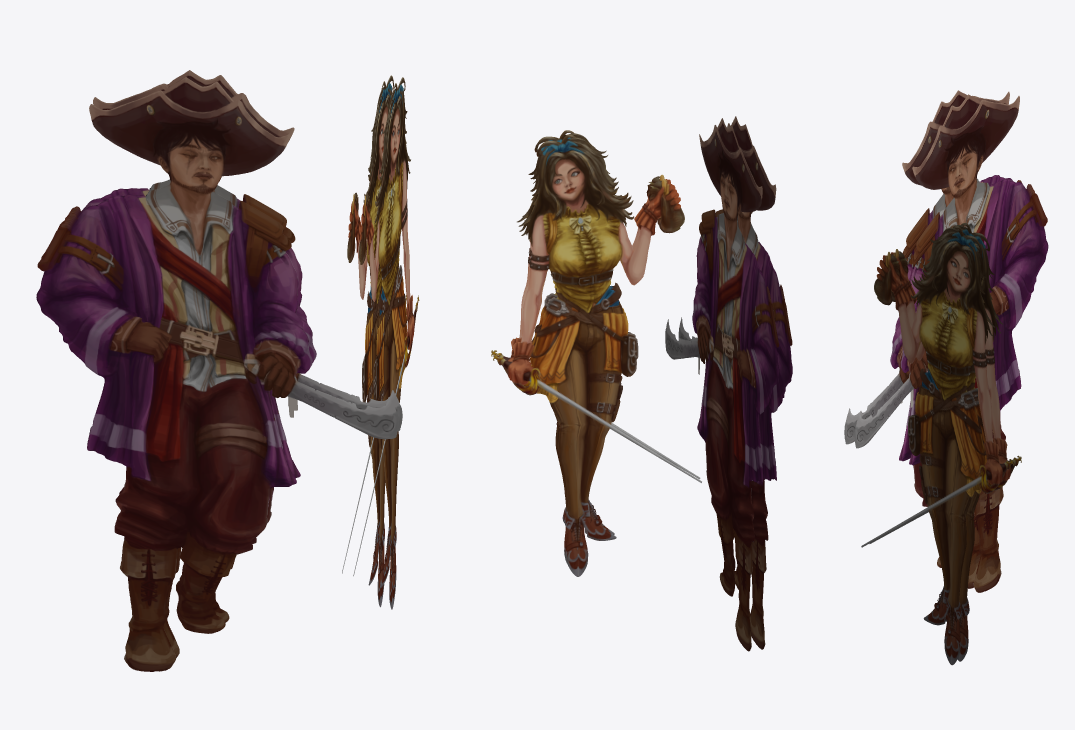
The model's file is human.fbx.
The picture shows the model from 3 angles, left to right: view 1: azimuth 30°, elevation 25°; view 2: azimuth 150°, elevation 25°; view 3: azimuth 270°, elevation 25°; orthographic projection. The views are drawn at different scales.
Visible parts, largest first — view 1: Plane085, Plane084; view 2: Plane084, Plane085; view 3: Plane084, Plane085.
Boxes of the visible parts, bbox=[...] form: Plane085: bbox=[36, 70, 402, 671]; Plane084: bbox=[342, 75, 419, 609]; Plane084: bbox=[491, 130, 701, 576]; Plane085: bbox=[665, 116, 792, 651]; Plane084: bbox=[861, 223, 1021, 665]; Plane085: bbox=[844, 90, 1048, 592].
Bounding box in the file's own units: 14.35 × 22.11 × 8.39.
Materials: 2 (2 with a texture image).
